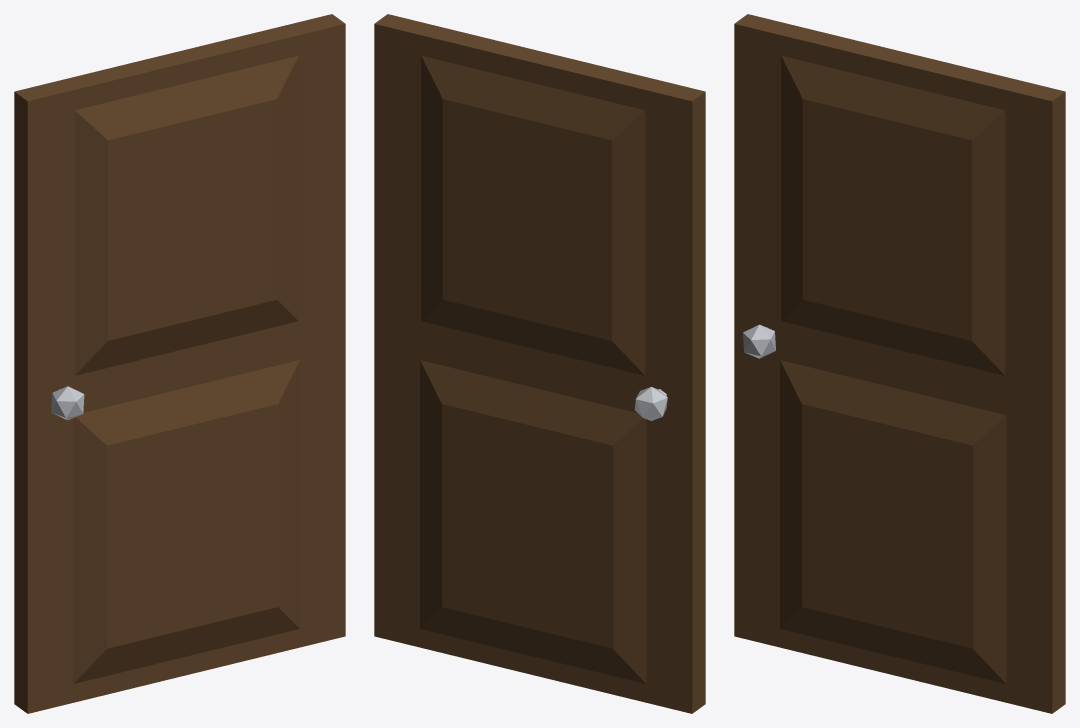
Rendered from DoorAsset.fbx.
The picture shows the model from 3 angles, left to right: view 1: azimuth 30°, elevation 25°; view 2: azimuth 150°, elevation 25°; view 3: azimuth 330°, elevation 25°; orthographic projection.
Parts seen in each view (by area): view 1: DoorAsset; view 2: DoorAsset; view 3: DoorAsset.
Part boxes in pixels (left/top/right/bottom): DoorAsset: left=14, top=14, right=345, bottom=713; DoorAsset: left=374, top=14, right=705, bottom=713; DoorAsset: left=734, top=14, right=1065, bottom=713.
Bounding box in the file's own units: 130 × 239 × 32.64.
